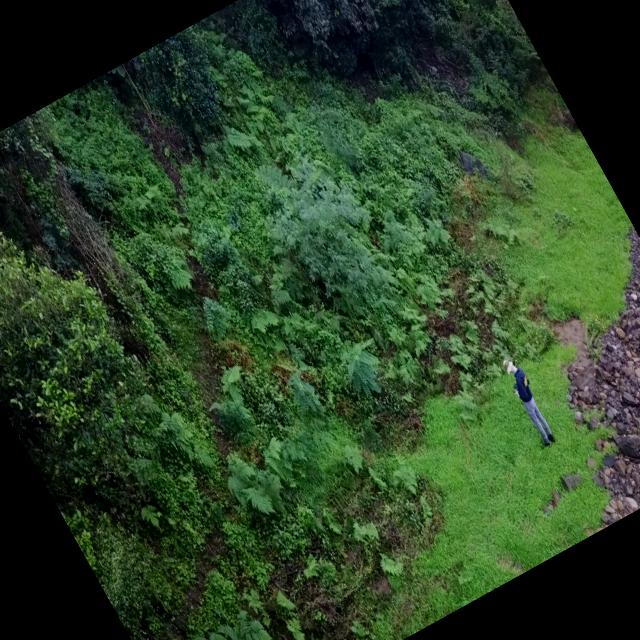Mysore-Thorn-Weed: (333, 338, 388, 397), (278, 364, 326, 420)
